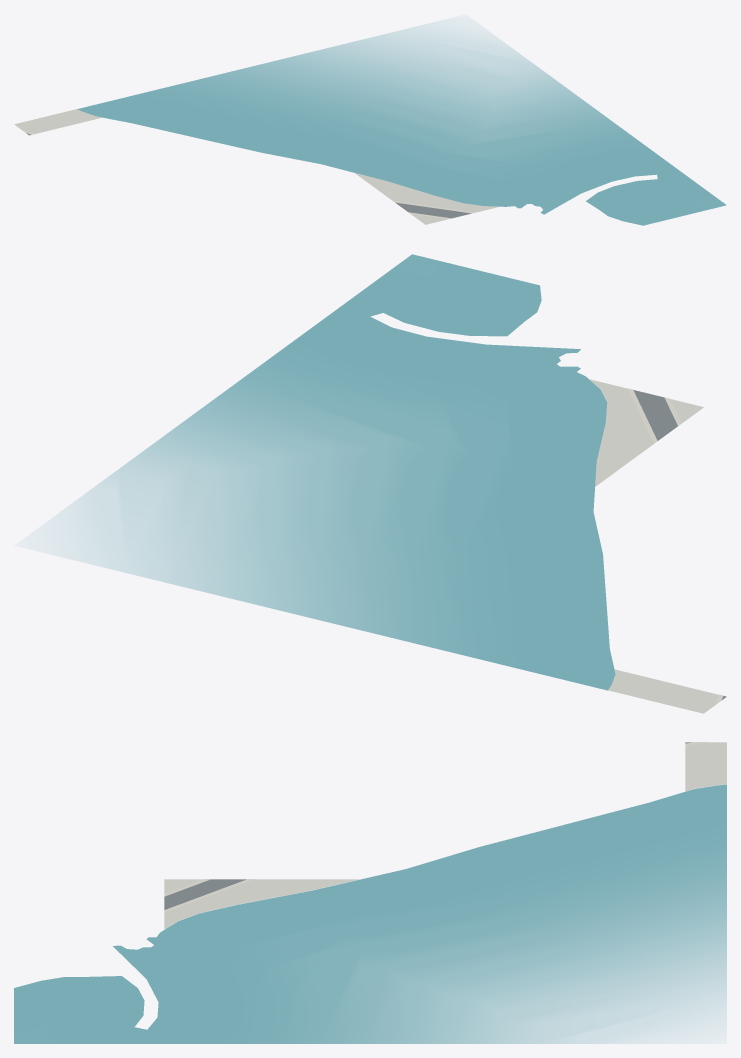
3 views of the same model, one above another, from view 1: azimuth 30°, elevation 25°; view 2: azimuth 150°, elevation 25°; view 3: azimuth 270°, elevation 25° (orthographic). The views are drawn at different scales.
Visible parts, largest first — view 1: city; view 2: city; view 3: city.
Part boxes in pixels (bbox=[...]): city: bbox=[14, 19, 726, 225]; city: bbox=[38, 254, 726, 713]; city: bbox=[14, 742, 726, 1043].
Bounding box in the file's own units: 500 × 0.4 × 500.
